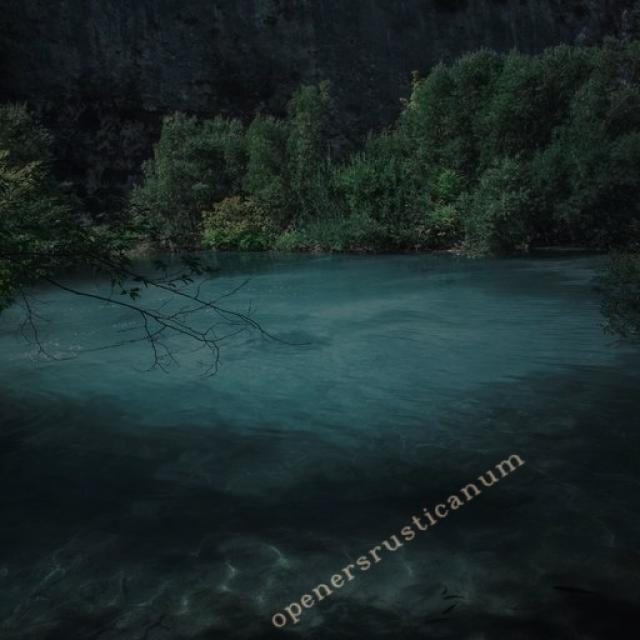watermark: (268, 440, 526, 633)
